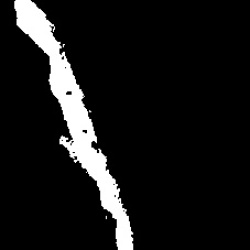crack: (14, 1, 134, 249)
